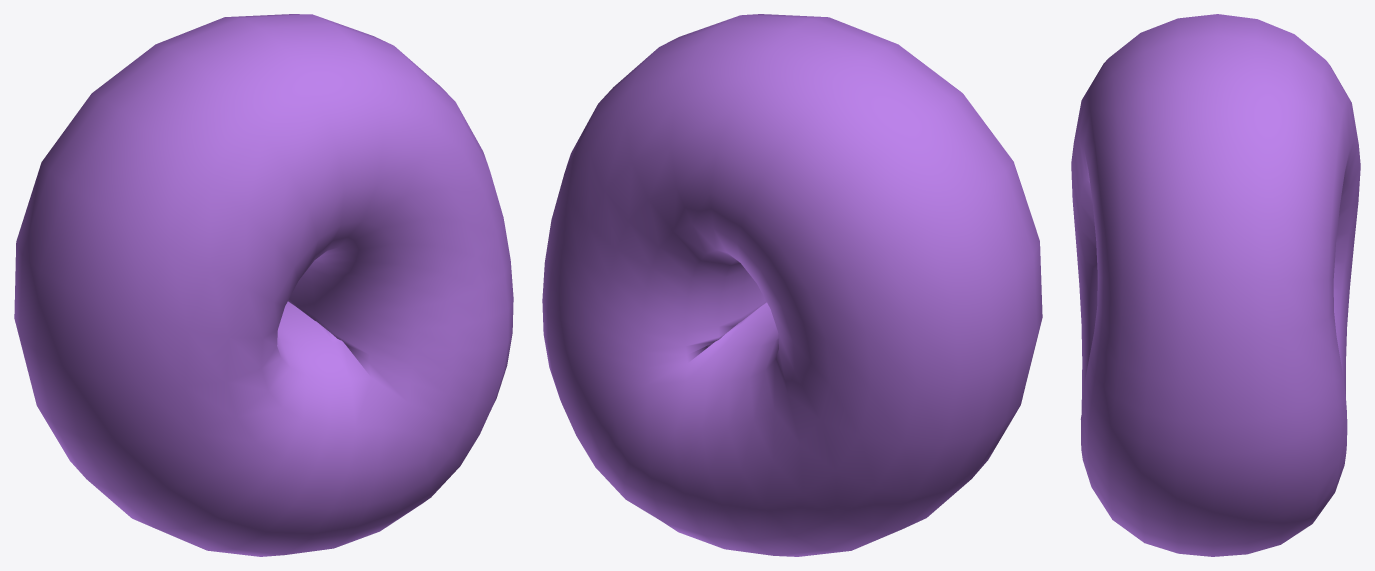
The picture shows the model from 3 angles, left to right: view 1: azimuth 30°, elevation 25°; view 2: azimuth 150°, elevation 25°; view 3: azimuth 270°, elevation 25°; orthographic projection. The views are drawn at different scales.
Visible parts, largest first — view 1: Object_30; view 2: Object_30; view 3: Object_30.
Boxes of the visible parts, x1,y1,x2,y2 form: Object_30: [14, 14, 513, 556]; Object_30: [542, 14, 1042, 556]; Object_30: [1071, 14, 1360, 556].
Bounding box in the file's own units: 91.21 × 99.01 × 53.25.
